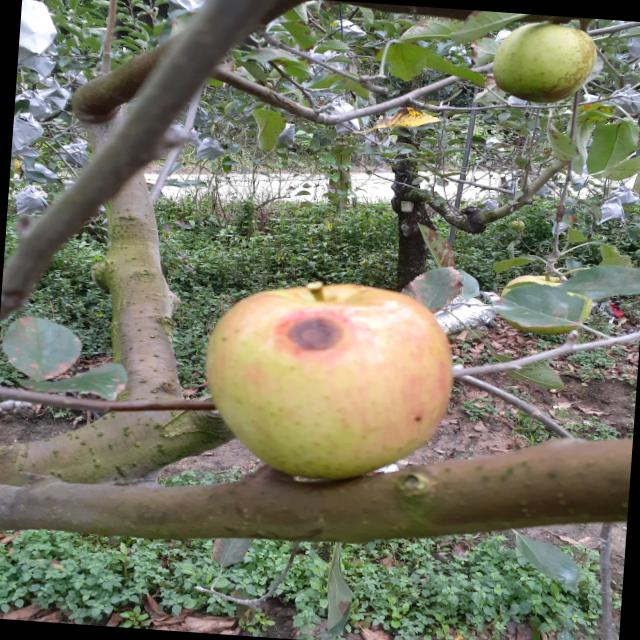rotten: (182, 261, 464, 506)
